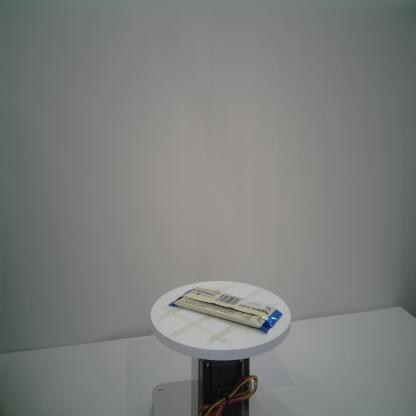Chocolate: (168, 286, 283, 334)
